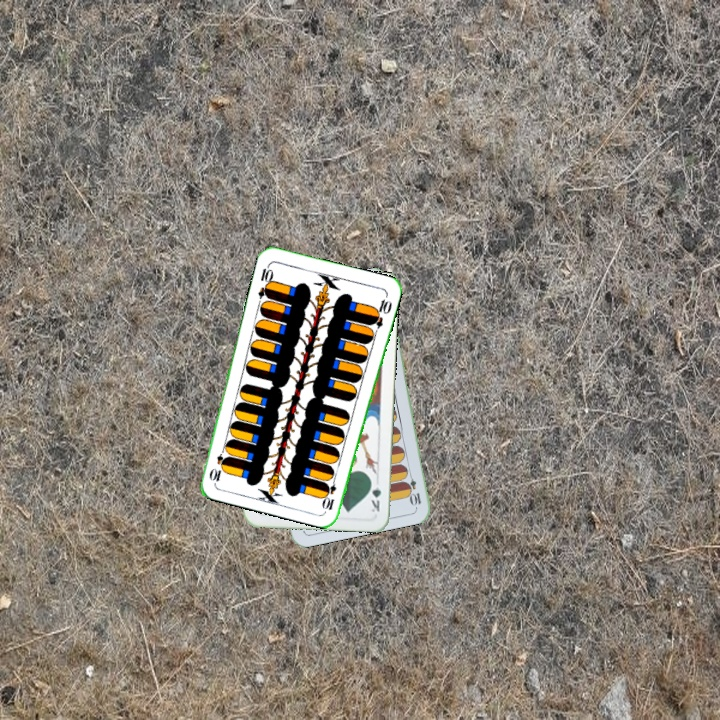E10: (254, 260, 276, 301), (403, 468, 424, 508), (321, 472, 339, 512)
GK: (367, 475, 383, 515)
